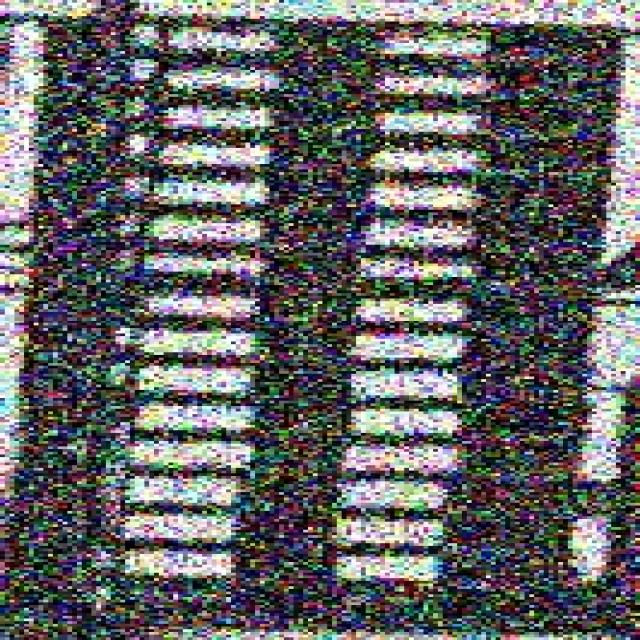igps: (0, 0, 640, 67), (4, 202, 616, 253), (4, 243, 618, 291), (9, 282, 609, 329), (11, 359, 605, 406), (5, 320, 608, 366), (0, 471, 603, 517), (5, 395, 602, 441), (0, 543, 592, 589), (0, 506, 587, 552), (18, 169, 620, 212), (25, 94, 629, 136), (0, 433, 587, 476), (23, 58, 632, 99), (17, 134, 629, 173)
